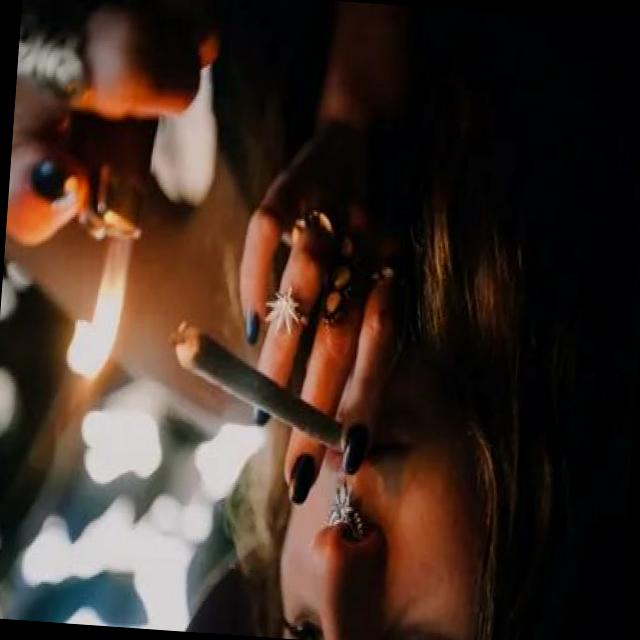cigarette: (160, 314, 356, 458)
